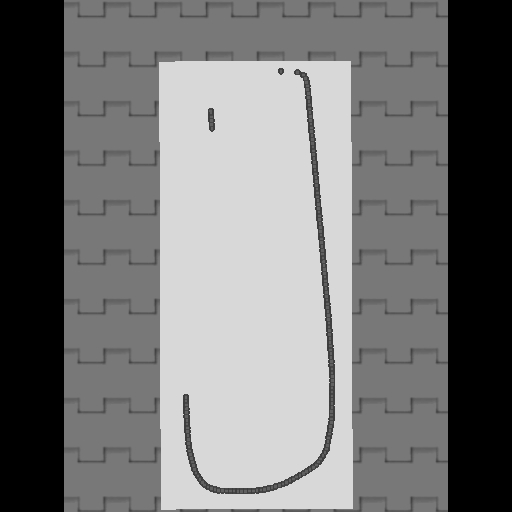Defect: (179, 132, 218, 396)
